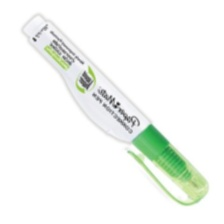correction_fluid: (21, 12, 212, 210)
